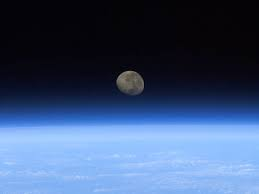moon: (115, 68, 145, 98)
